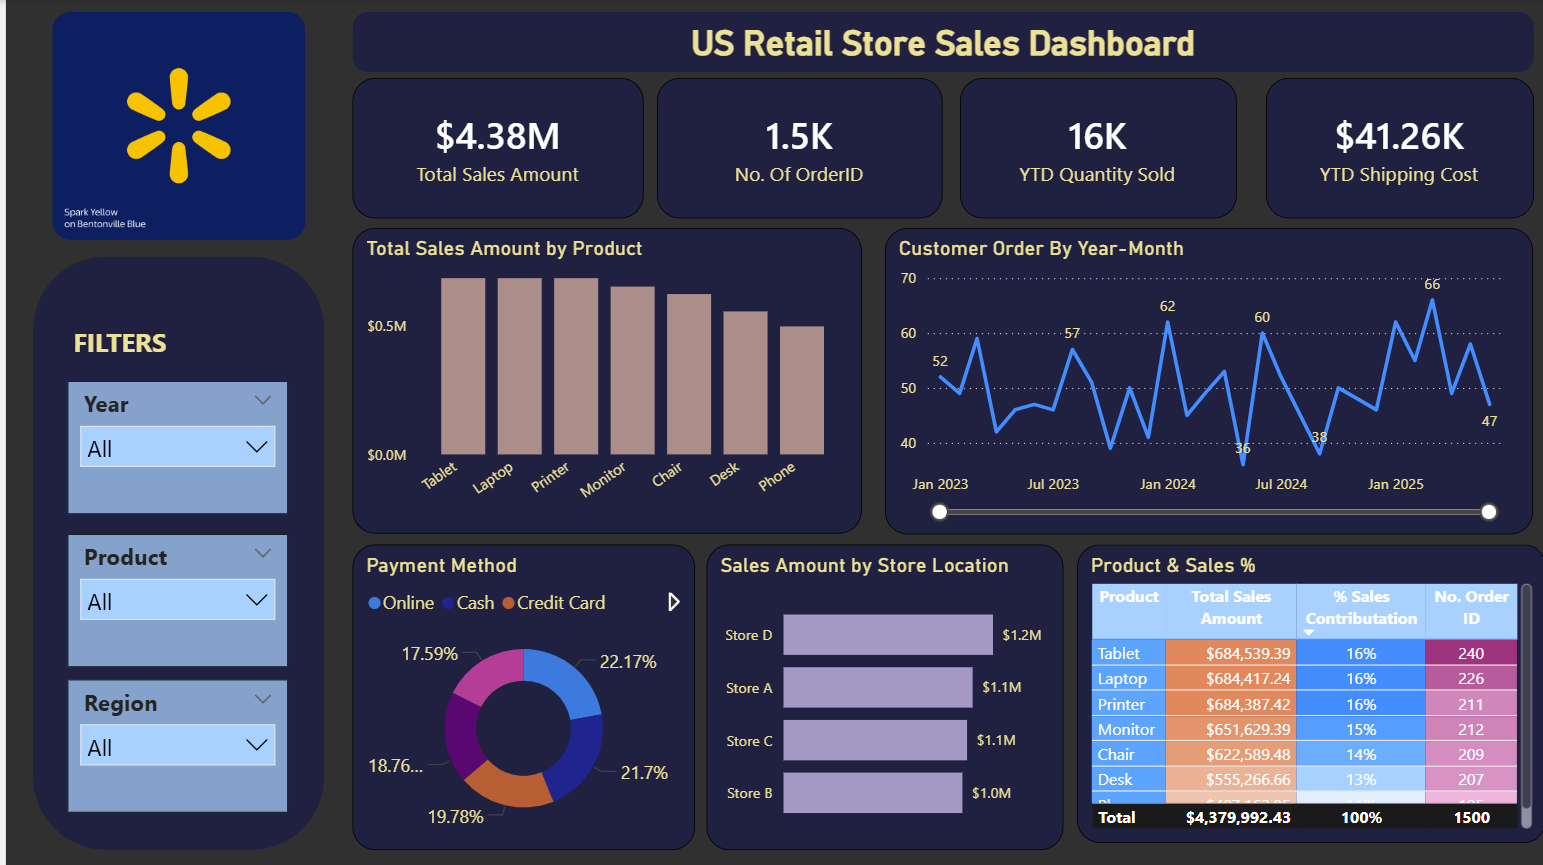

Layout of this report page (visuals, bound fields, positions):
{"tool":"powerbi","page":{"name":"Executive Summary","canvas":[1280,720],"ordinal":0},"visuals":[{"type":"shape","title":"Walmart Sales Dashboard","box":[287.5,10.6,981.9,49.9],"z":0},{"type":"columnChart","fields":{"Category":["Sales Data.Product"],"Y":["Key Measure.Total Sales Amount"]},"box":[287.5,189.1,423.6,254.2],"z":1000},{"type":"lineChart","title":"Customer Order By Year-Month","fields":{"Y":["CountNonNull(Sales Data.OrderID)"],"Category":["Calender.Year-Month"]},"box":[730.6,189.5,538.6,254.3],"z":2000},{"type":"donutChart","title":"Payment Method","fields":{"Y":["Key Measure.Total Sales Amount"],"Category":["Sales Data.PaymentMethod"]},"box":[287.5,452.4,284.4,254.2],"z":3000},{"type":"barChart","title":" Sales Amount by Store Location","fields":{"Category":["Sales Data.StoreLocation"],"Y":["Key Measure.Total Sales Amount"]},"box":[582.5,452.4,296.5,254.2],"z":4000},{"type":"cardVisual","fields":{"Data":["Key Measure.Total Sales Amount"]},"box":[287.5,65.1,242.1,116.5],"z":5000},{"type":"cardVisual","fields":{"Data":["CountNonNull(Sales Data.OrderID)"]},"box":[541.7,65.1,237.5,116.5],"z":6000},{"type":"cardVisual","fields":{"Data":["Sum(Sales Data.Quantity)"]},"box":[792.8,65.1,230,116.5],"z":7000},{"type":"cardVisual","fields":{"Data":["Sum(Sales Data.ShippingCost)"]},"box":[1047,65.1,222.4,116.5],"z":8000},{"type":"shape","box":[22.7,213.3,242.1,493.2],"z":9000},{"type":"slicer","fields":{"Values":["Calender.Year"]},"box":[51.4,316.2,183.1,110.4],"z":10000},{"type":"slicer","fields":{"Values":["Sales Data.Product"]},"box":[51.4,443.3,183.1,110.4],"z":11000},{"type":"textbox","box":[51.4,264.8,183.1,51.4],"z":12000},{"type":"slicer","fields":{"Values":["Sales Data.Region"]},"box":[51.4,564.3,183.1,110.4],"z":13000},{"type":"image","box":[0,10.6,287.5,189.1],"z":14000},{"type":"tableEx","title":"Product & Sales %","fields":{"Values":["Sales Data.Product","Key Measure.Total Sales Amount","Sales Data.Measure","Sales Data.OrderID"]},"box":[889.6,452.4,390.4,248.1],"z":15000}]}

Visuals, with their boxes in screenshot pixels (x1, y1, x2, y2), scaled from the page's 1280x720 canvas onto the 1543x865 screenshot:
"Walmart Sales Dashboard" shape: [x1=347, y1=13, x2=1530, y2=73]
columnChart - Sales Data.Product x Key Measure.Total Sales Amount: [x1=347, y1=227, x2=857, y2=533]
"Customer Order By Year-Month" lineChart: [x1=881, y1=228, x2=1530, y2=533]
"Payment Method" donutChart: [x1=347, y1=544, x2=689, y2=849]
" Sales Amount by Store Location" barChart: [x1=702, y1=544, x2=1060, y2=849]
cardVisual - Key Measure.Total Sales Amount: [x1=347, y1=78, x2=638, y2=218]
cardVisual - CountNonNull(Sales Data.OrderID): [x1=653, y1=78, x2=939, y2=218]
cardVisual - Sum(Sales Data.Quantity): [x1=956, y1=78, x2=1233, y2=218]
cardVisual - Sum(Sales Data.ShippingCost): [x1=1262, y1=78, x2=1530, y2=218]
shape: [x1=27, y1=256, x2=319, y2=849]
slicer - Calender.Year: [x1=62, y1=380, x2=283, y2=513]
slicer - Sales Data.Product: [x1=62, y1=533, x2=283, y2=665]
textbox: [x1=62, y1=318, x2=283, y2=380]
slicer - Sales Data.Region: [x1=62, y1=678, x2=283, y2=811]
image: [x1=0, y1=13, x2=347, y2=240]
"Product & Sales %" tableEx: [x1=1072, y1=544, x2=1542, y2=842]
